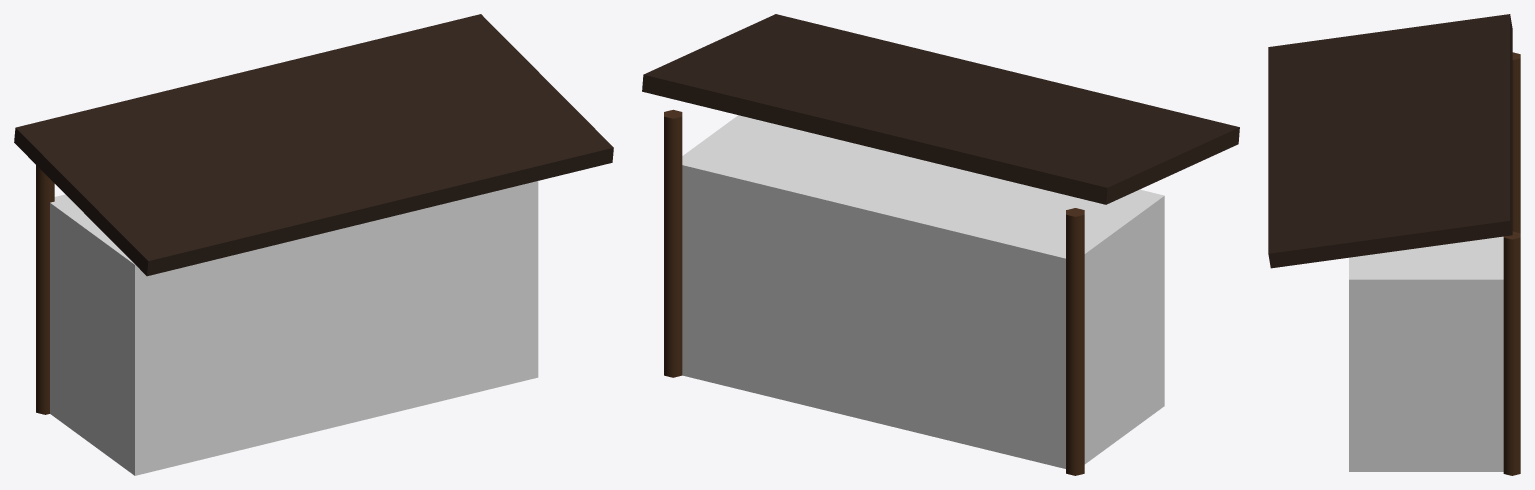
File: lenera.glb
3 renders of one model, left to right at view 1: azimuth 30°, elevation 25°; view 2: azimuth 150°, elevation 25°; view 3: azimuth 270°, elevation 25°, orthographic. The views are drawn at different scales.
Visible parts, largest first — view 1: COL_0, lenera_Malla; view 2: COL_0, lenera_Malla; view 3: lenera_Malla, COL_0.
Boxes of the visible parts, x1,y1,x2,y2 form: COL_0: [50, 181, 538, 475]; lenera_Malla: [14, 14, 613, 414]; COL_0: [682, 115, 1164, 468]; lenera_Malla: [642, 14, 1239, 475]; lenera_Malla: [1268, 14, 1520, 475]; COL_0: [1349, 236, 1503, 471].
Size of the model in its own units: 3 by 1.79 by 1.55.
